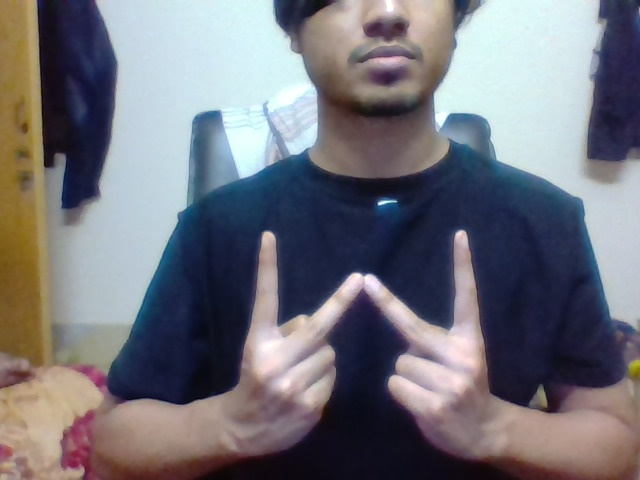W: (240, 222, 491, 336)
